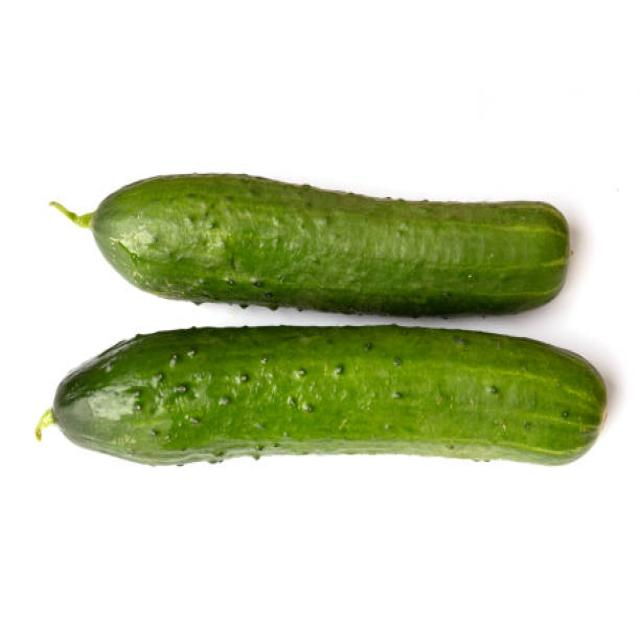cucumber: (54, 325, 608, 467), (94, 172, 570, 320)
